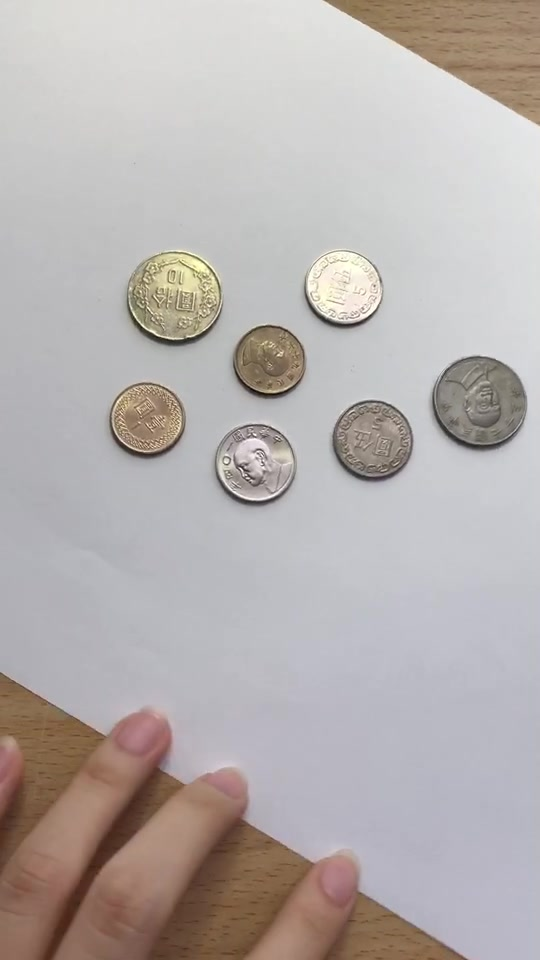1 dallar: (101, 378, 193, 461), (220, 319, 312, 402)
10 dallar: (122, 247, 227, 353), (425, 350, 530, 456)
5 dallar: (210, 419, 300, 519), (326, 389, 416, 489), (301, 242, 391, 342)
